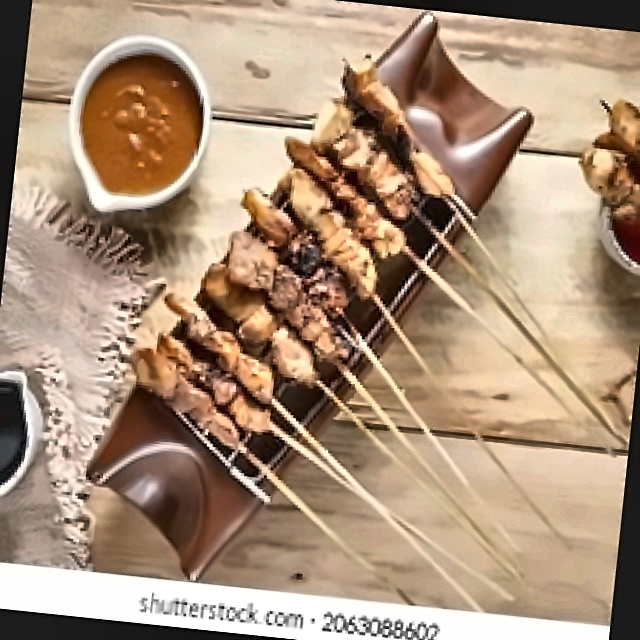satay_skewer: (76, 100, 640, 504), (274, 96, 618, 548), (143, 242, 551, 622), (302, 51, 640, 452)
